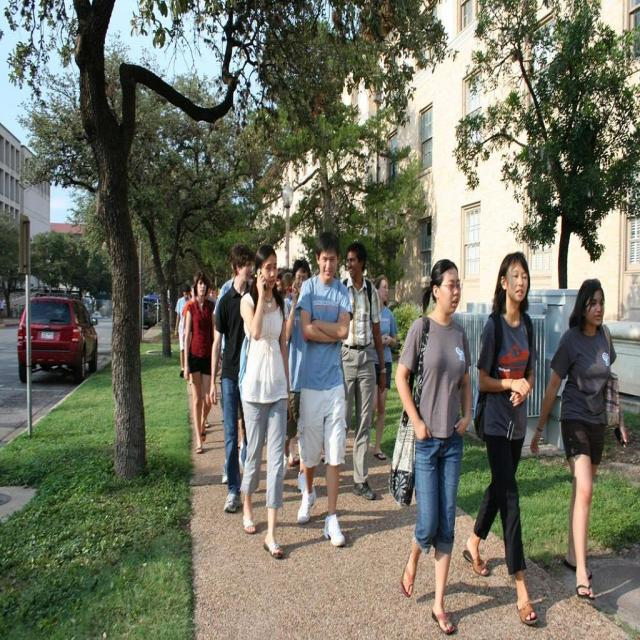car: (8, 287, 93, 393)
